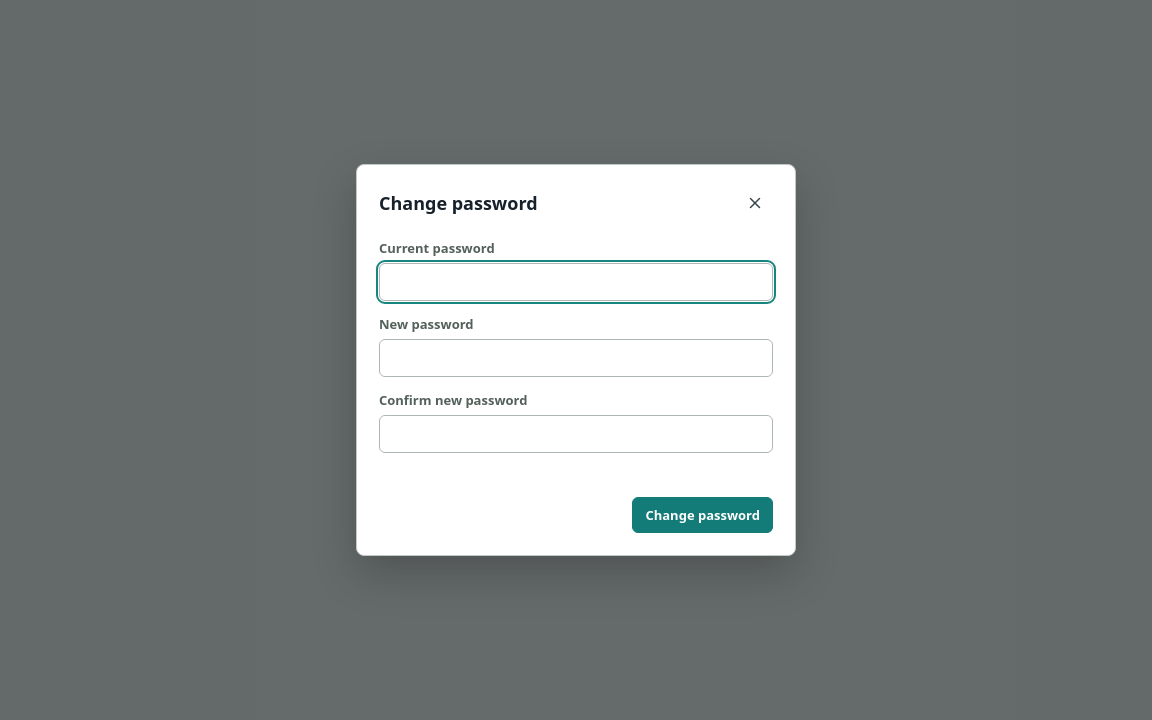
Test: ChangePasswordDialog › renders an allowed failure in StrictMode after its effect lifecycle replay
Type "CurrentPass9!" into the password field labelled "Current password" at point(576, 282), box [379,263,773,301]
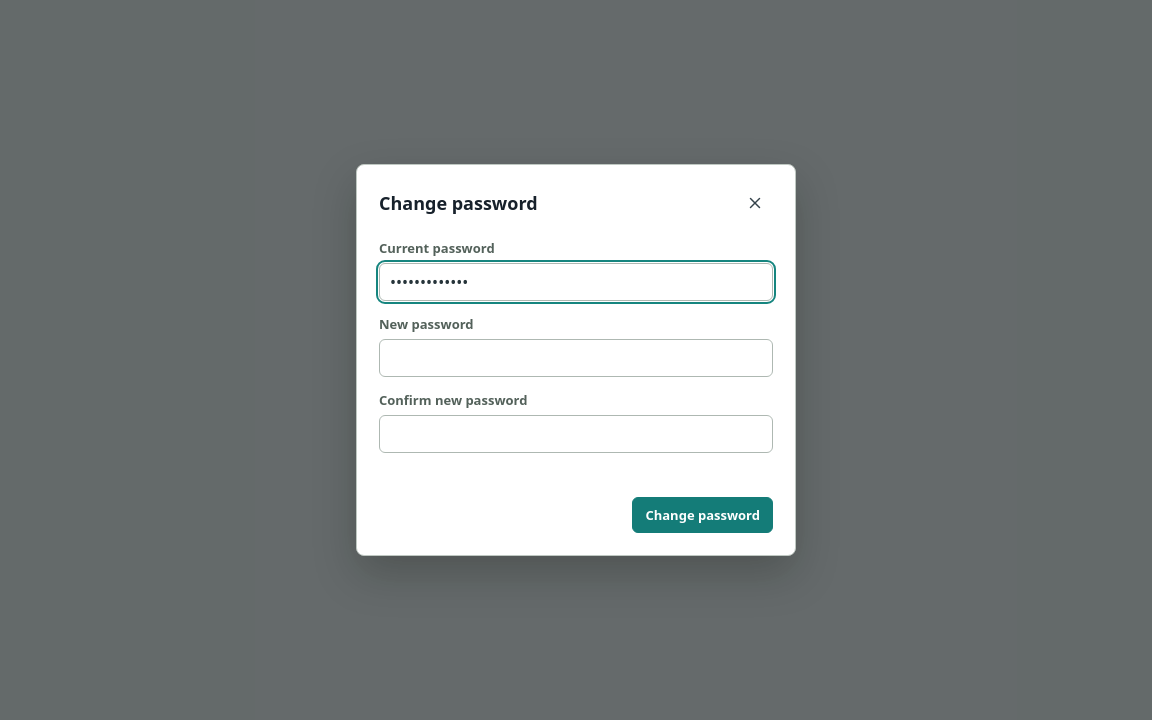
Type "ReplacementPass9!" into the password field labelled "New password" at point(576, 358), box [379,339,773,377]
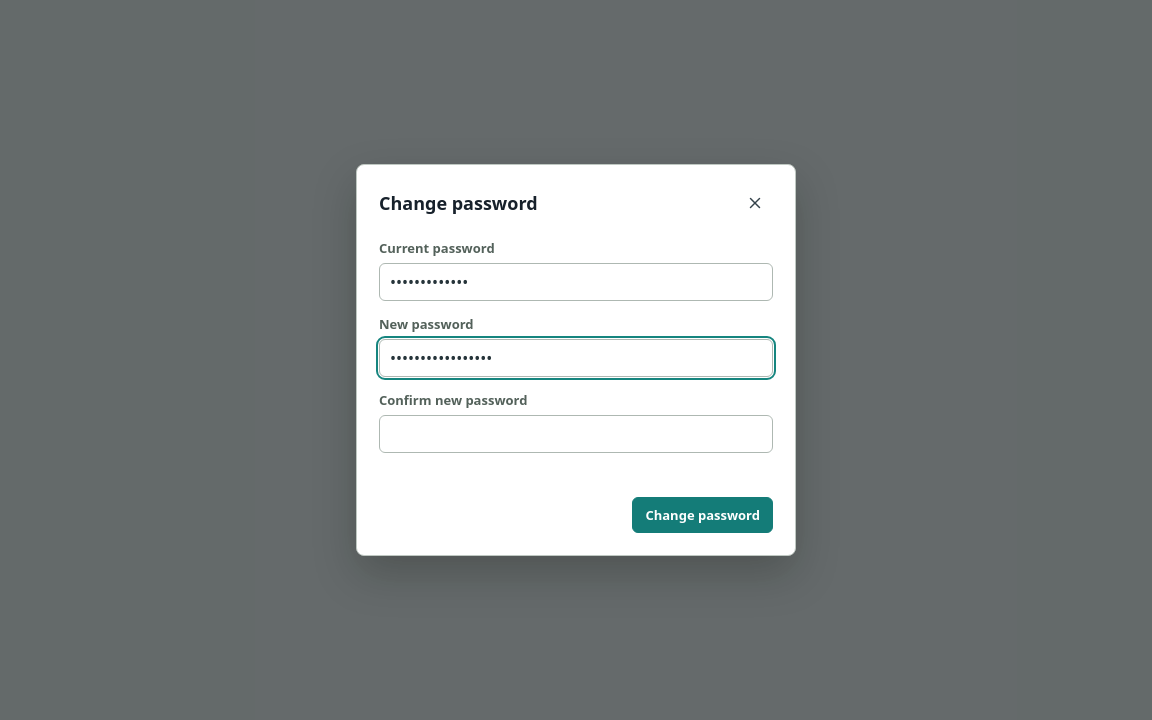
Type "ReplacementPass9!" into the password field labelled "Confirm new password" at point(576, 434), box [379,415,773,453]
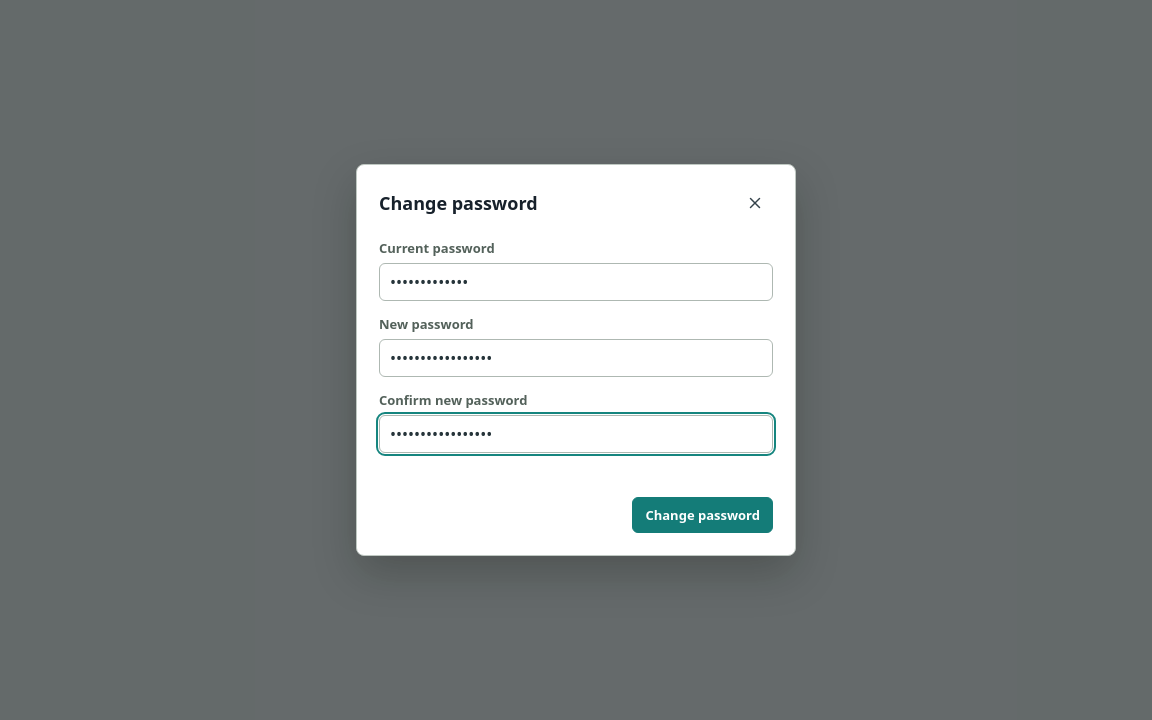
Click the button "Change password" at point(703, 515), box [632,497,773,533]
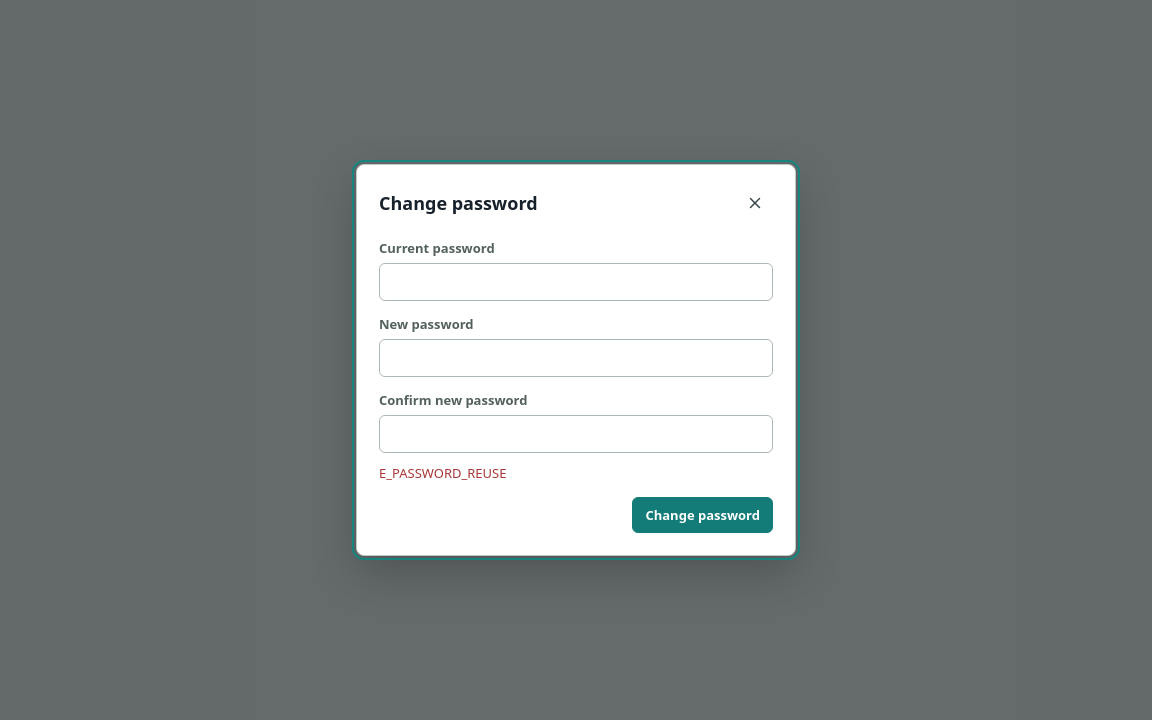
Expected: the message reads "E_PASSWORD_REUSE", [379,464,506,482]
